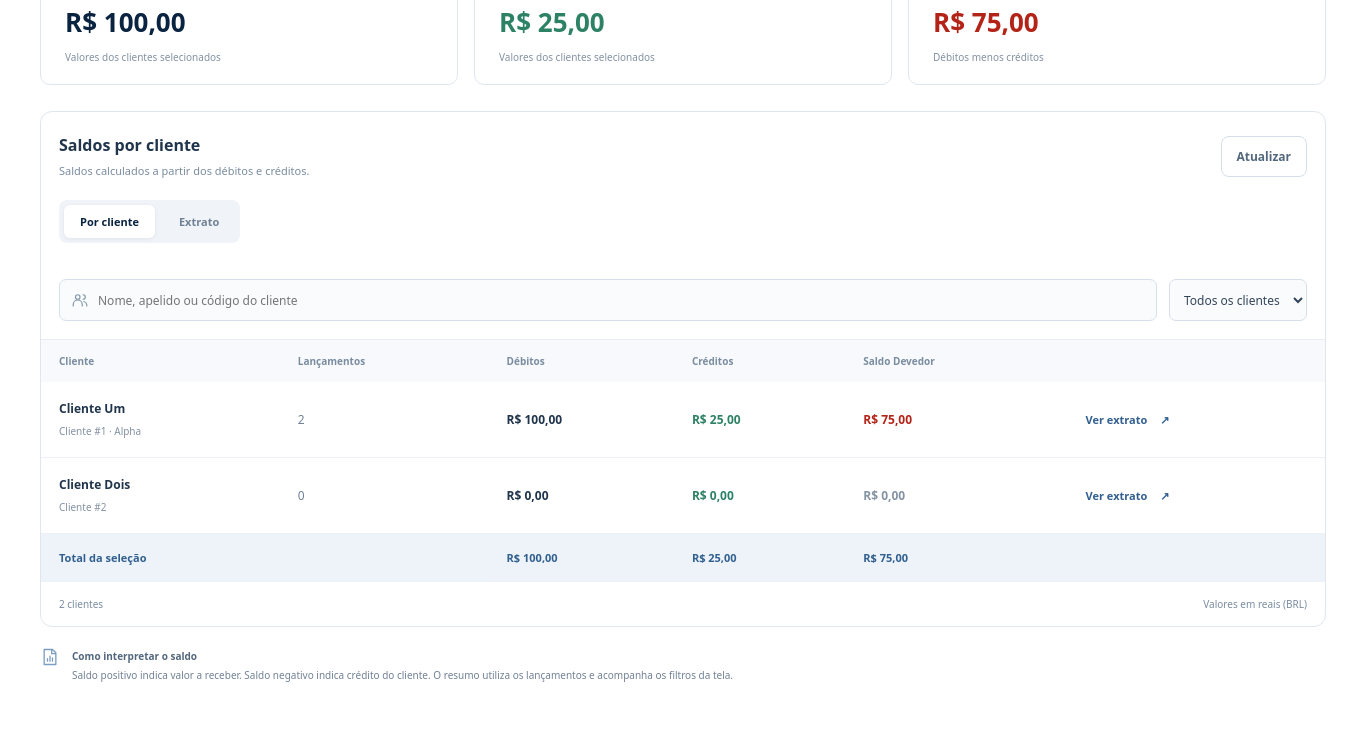
Test: account summary › shows zero-entry customers distinctly from a failed query
The image size is (1366, 741).
(page scrolled)
Step 1. Click the button with aria-label "Ver extrato de Cliente Dois" → click(1128, 496), box [1081,483,1174,508]
(page scrolled)
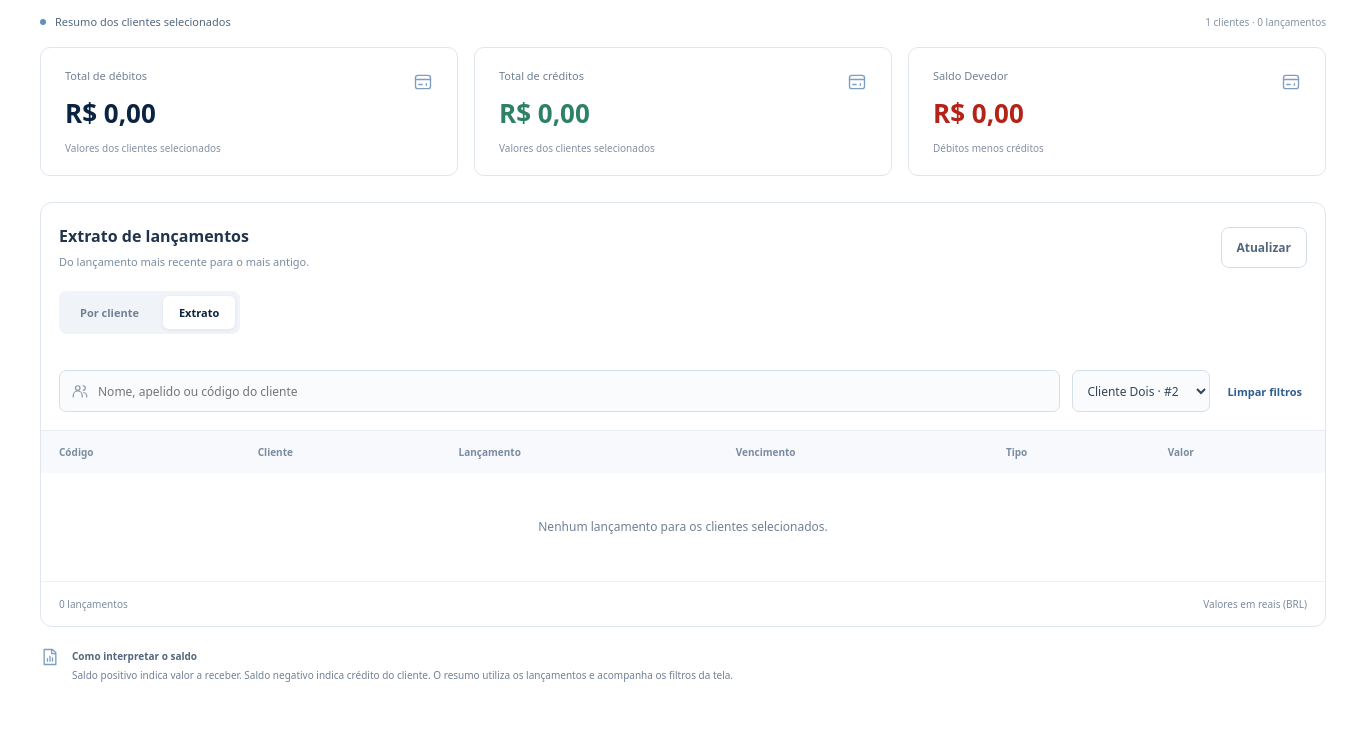
Expected: the text "Nenhum lançamento para os clientes selecionados." is shown, [41,473,1325,582]
